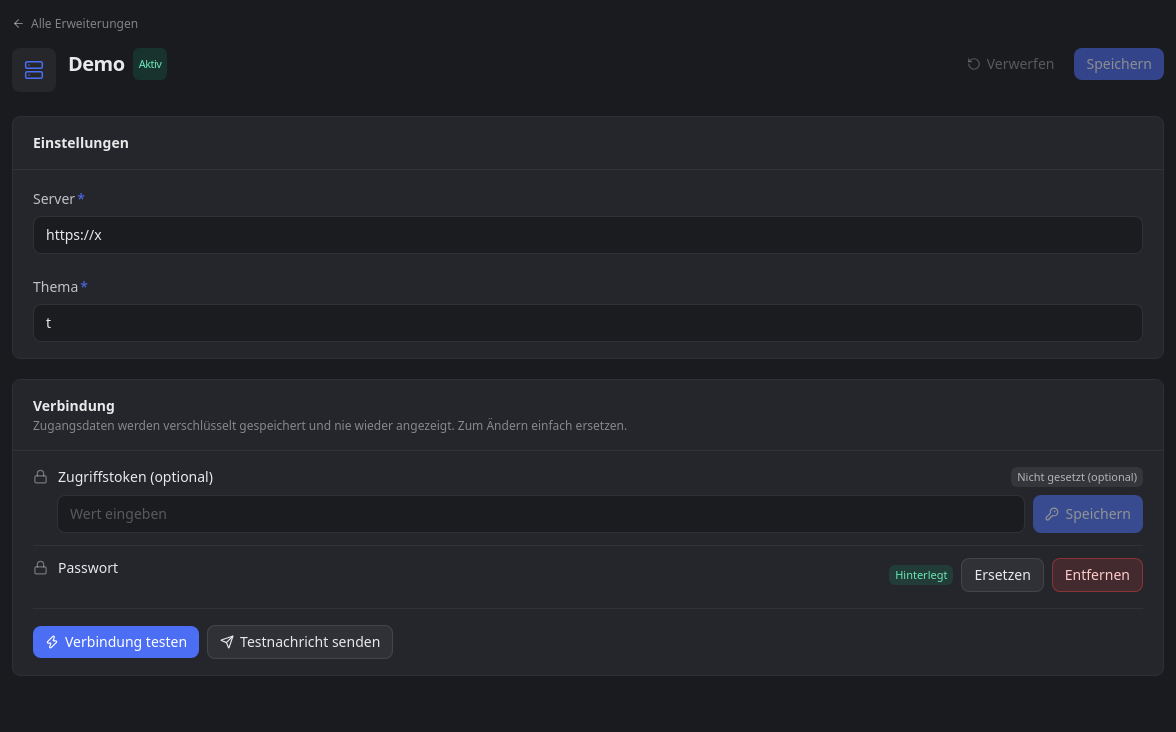
Test case: Verbindung testen › zeigt Fehler des Servers (z. B. Begrenzung) als rotes Ergebnis
Click the button "Verbindung testen" at (116, 642), box [33, 626, 199, 658]
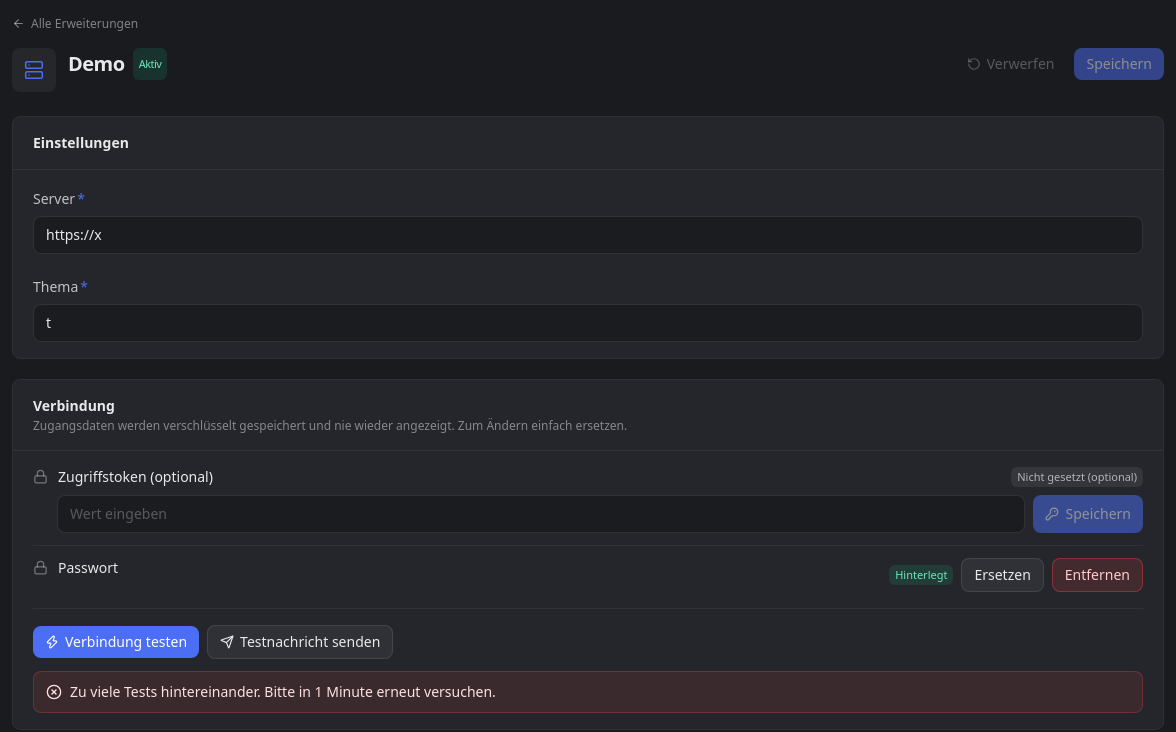
Expected: the text "Zu viele Tests" is shown, [70, 682, 496, 701]
